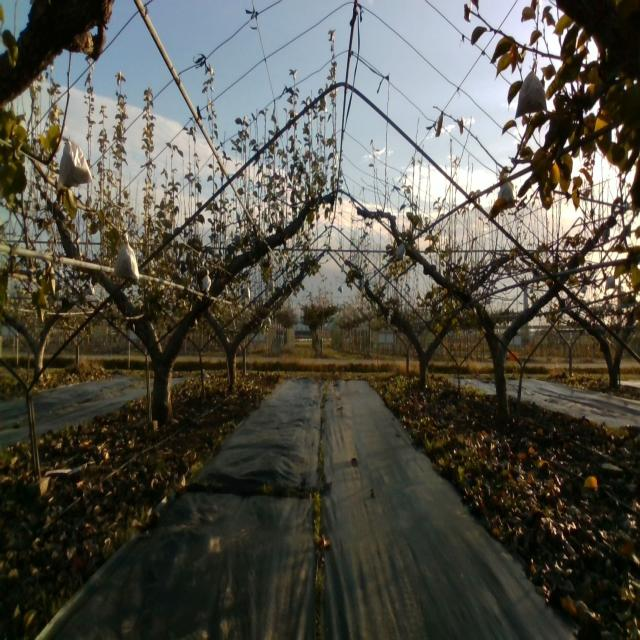pearbags: (514, 57, 547, 119), (58, 133, 92, 190), (113, 230, 140, 282), (496, 183, 515, 201), (395, 240, 406, 260)
